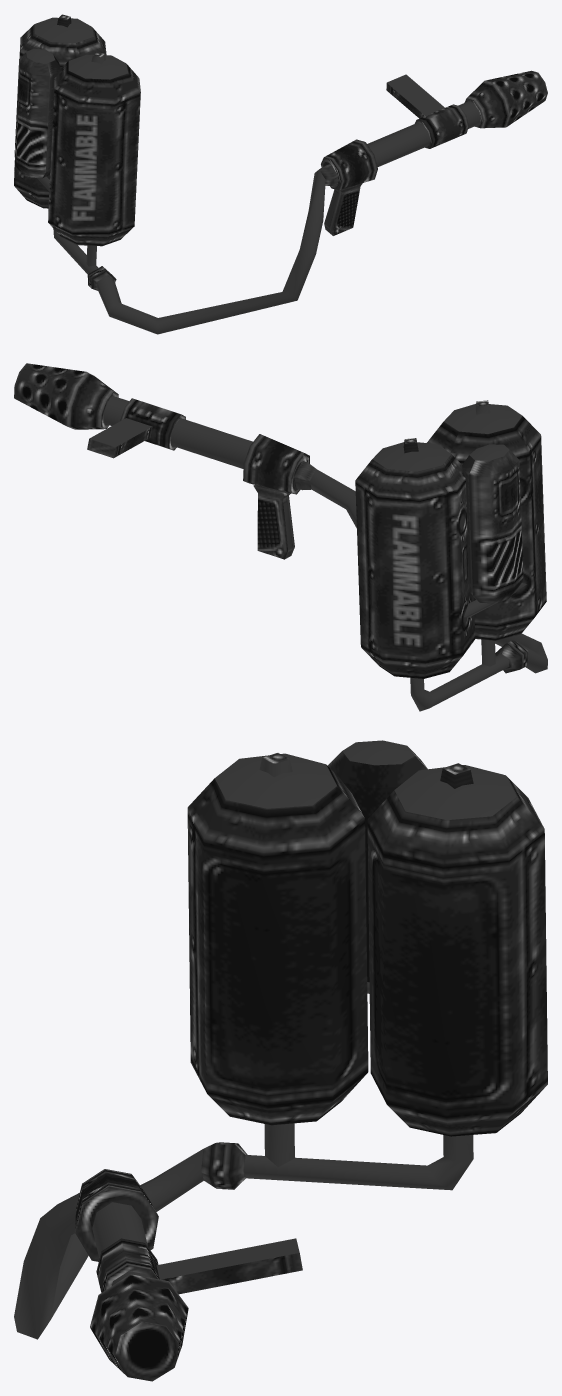
File: p_egon.glb
3 renders of one model, top to bottom at view 1: azimuth 30°, elevation 25°; view 2: azimuth 150°, elevation 25°; view 3: azimuth 270°, elevation 25°, orthographic. The views are drawn at different scales.
Parts seen in each view (by area): view 1: p_egon; view 2: p_egon; view 3: p_egon.
Boxes of the visible parts, x1,y1,x2,y2 form: p_egon: (14, 14, 547, 334); p_egon: (14, 363, 547, 711); p_egon: (14, 740, 547, 1381).
Size of the model in its own units: 50.27 by 25.7 by 25.77.
Materials: 2 (2 with a texture image).
